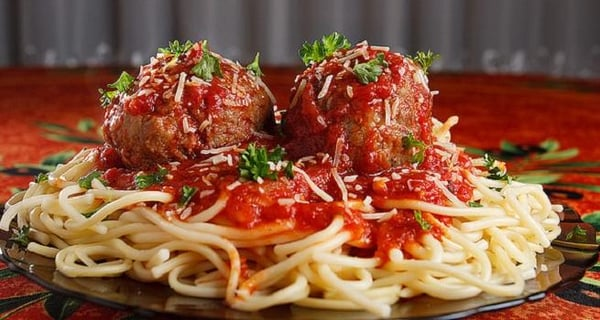curry: (297, 31, 351, 68)
